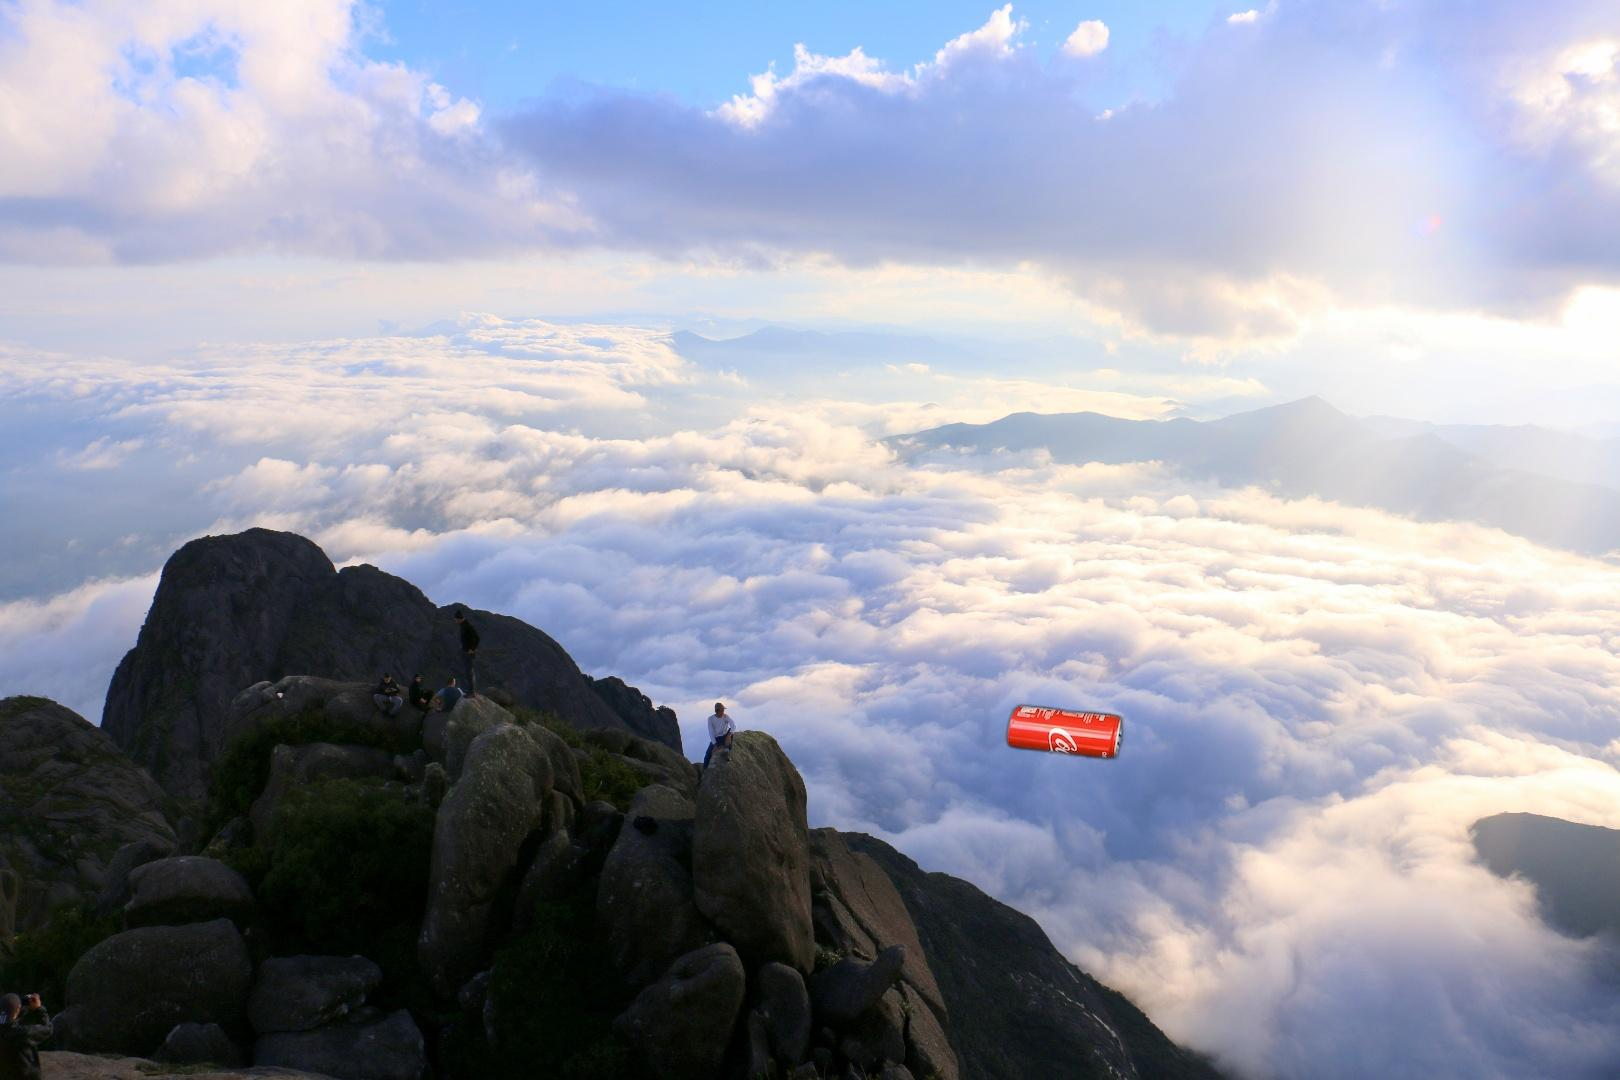metal-cans: (1003, 698, 1128, 765)
